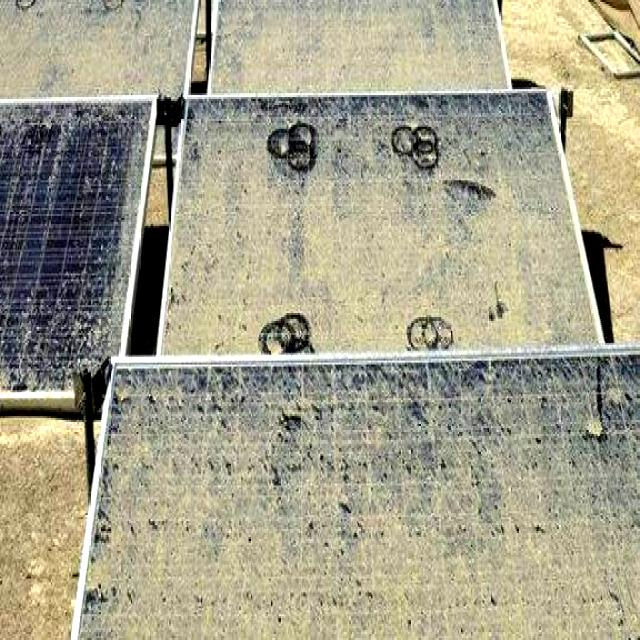dust: (292, 366, 488, 638), (118, 366, 280, 634), (500, 367, 640, 640), (342, 102, 489, 356), (188, 100, 334, 346), (217, 3, 497, 102), (3, 428, 102, 628), (4, 0, 186, 88), (59, 116, 118, 385), (0, 114, 51, 388), (498, 116, 556, 343), (118, 105, 152, 284), (561, 230, 600, 364)
